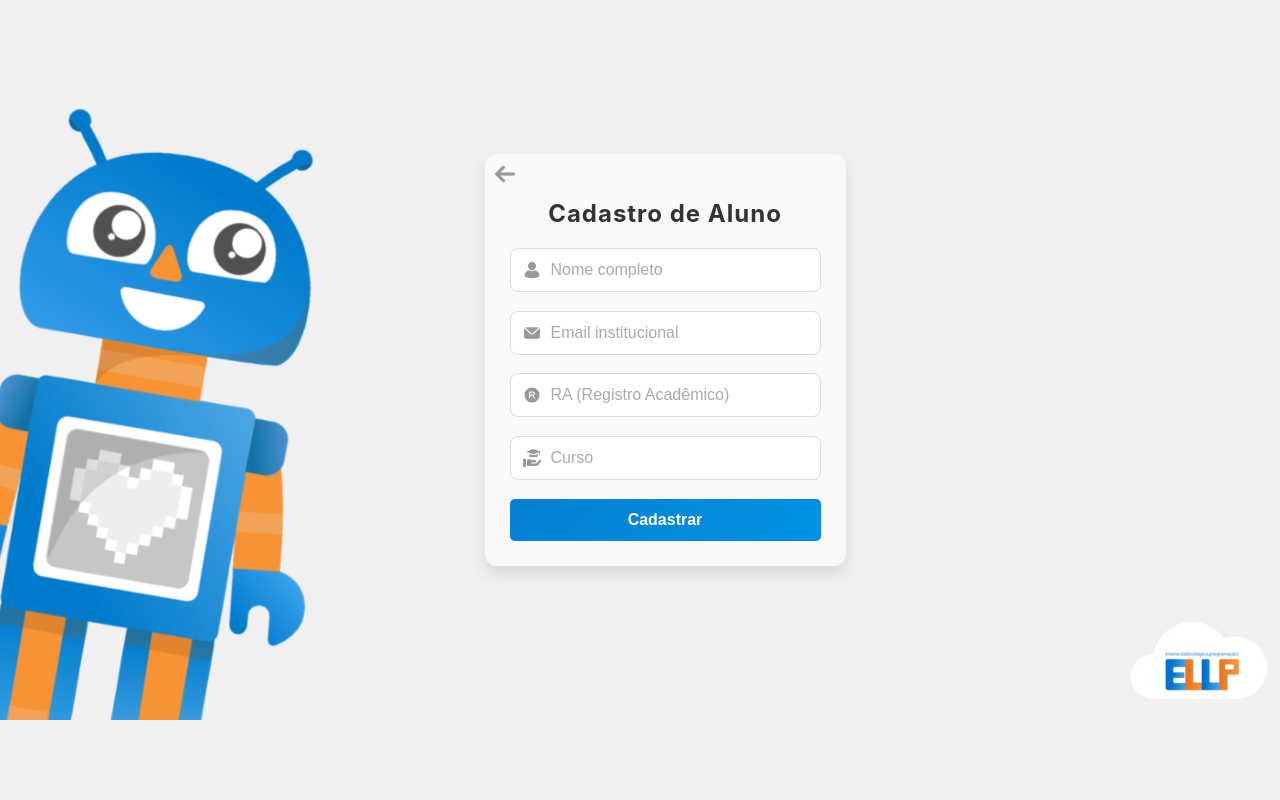
CadastroAluno › Deve exibir mensagem de erro se o cadastro falhar
// Preenche os campos do formulário com dados válidos para o cadastro
In the field with placeholder "Nome completo": (680, 270) [551,261,808,279], type "Maria Oliveira"
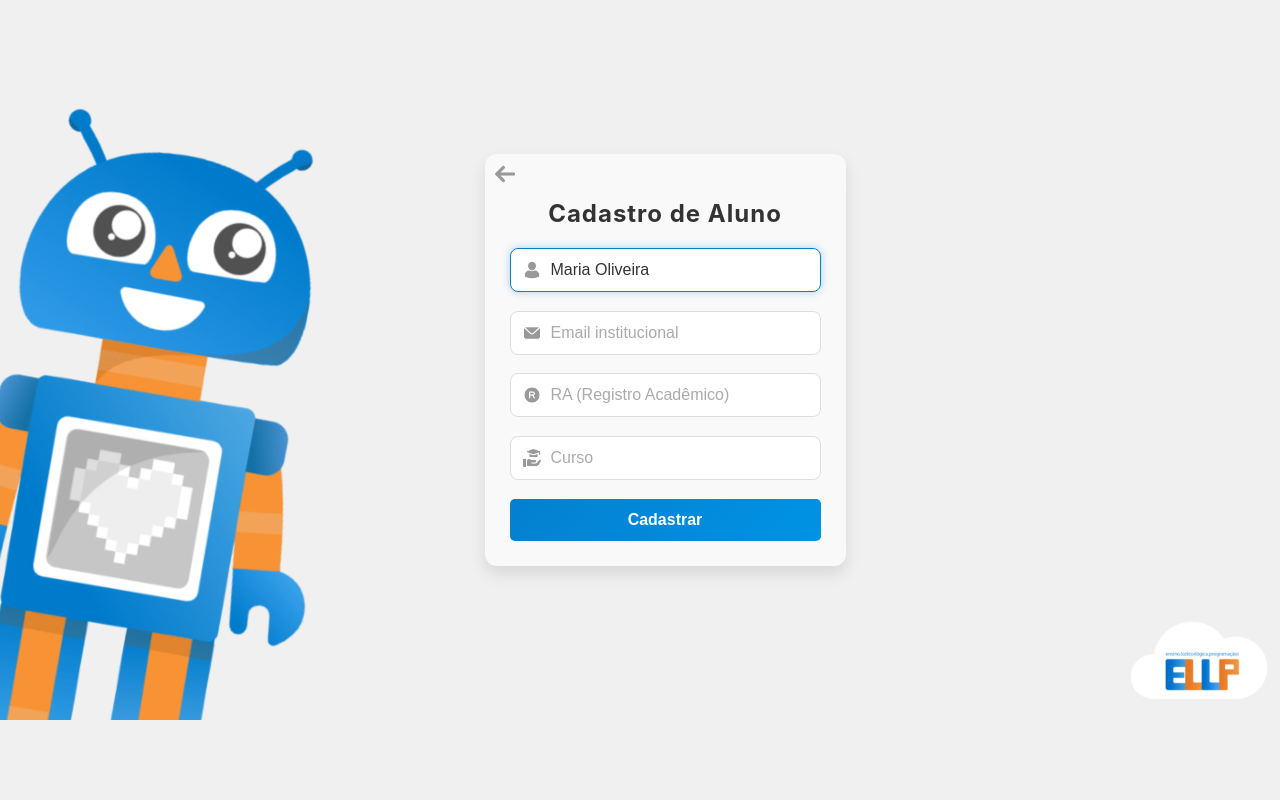
In the field with placeholder "Email institucional": (680, 333) [551,324,808,342], type "maria.oliveira@exemplo.com"
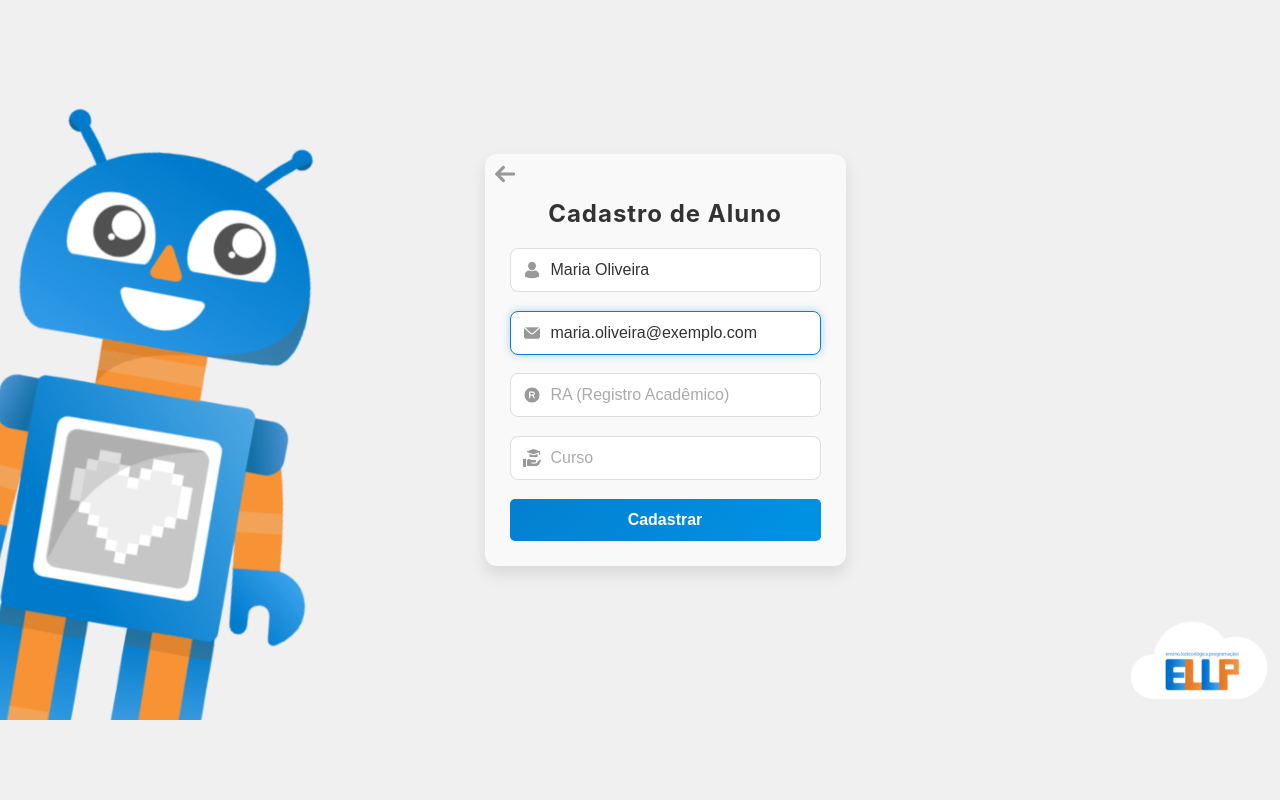
In the field with placeholder "RA (Registro Acadêmico)": (680, 396) [551,387,808,405], type "789012"
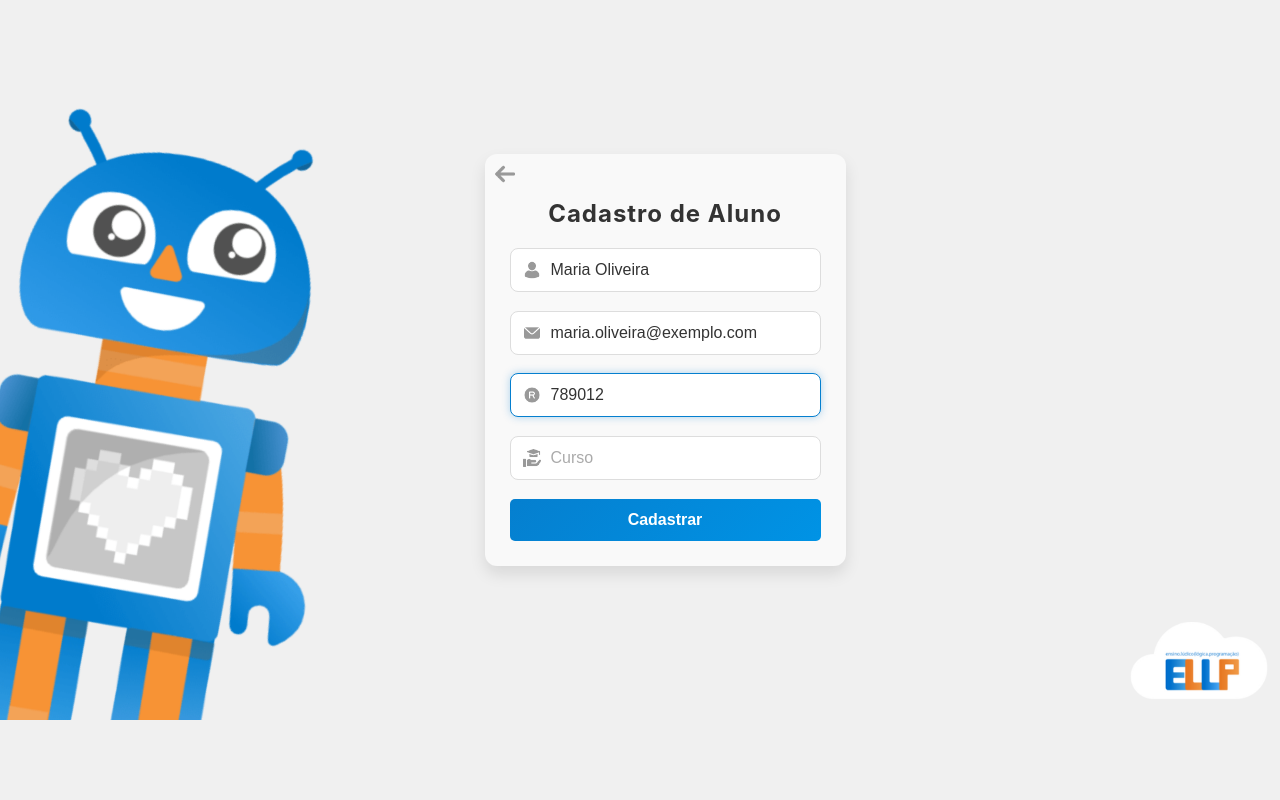
In the field with placeholder "Curso": (680, 458) [551,449,808,467], type "Engenharia de Software"
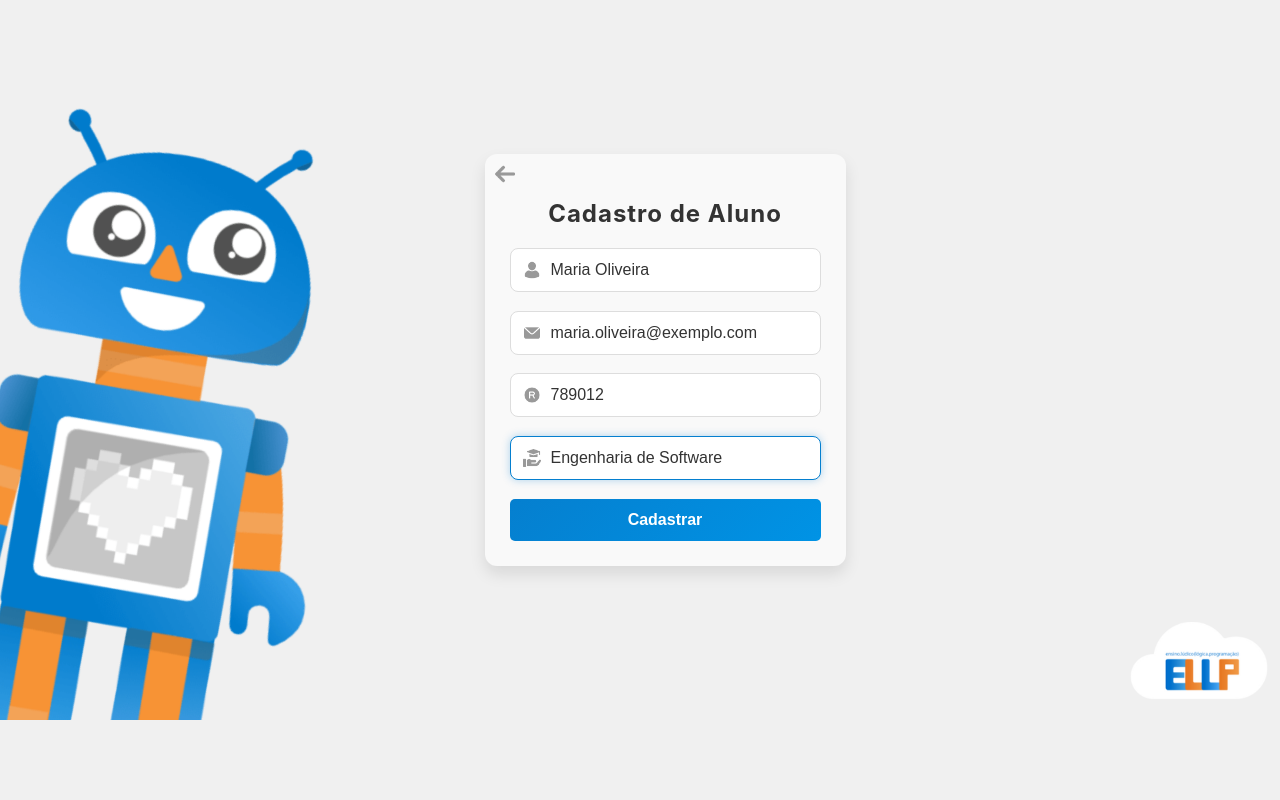
// Clica no botão de cadastro
Click the button with class "cadastro-button": click(666, 520) [510,499,821,541]
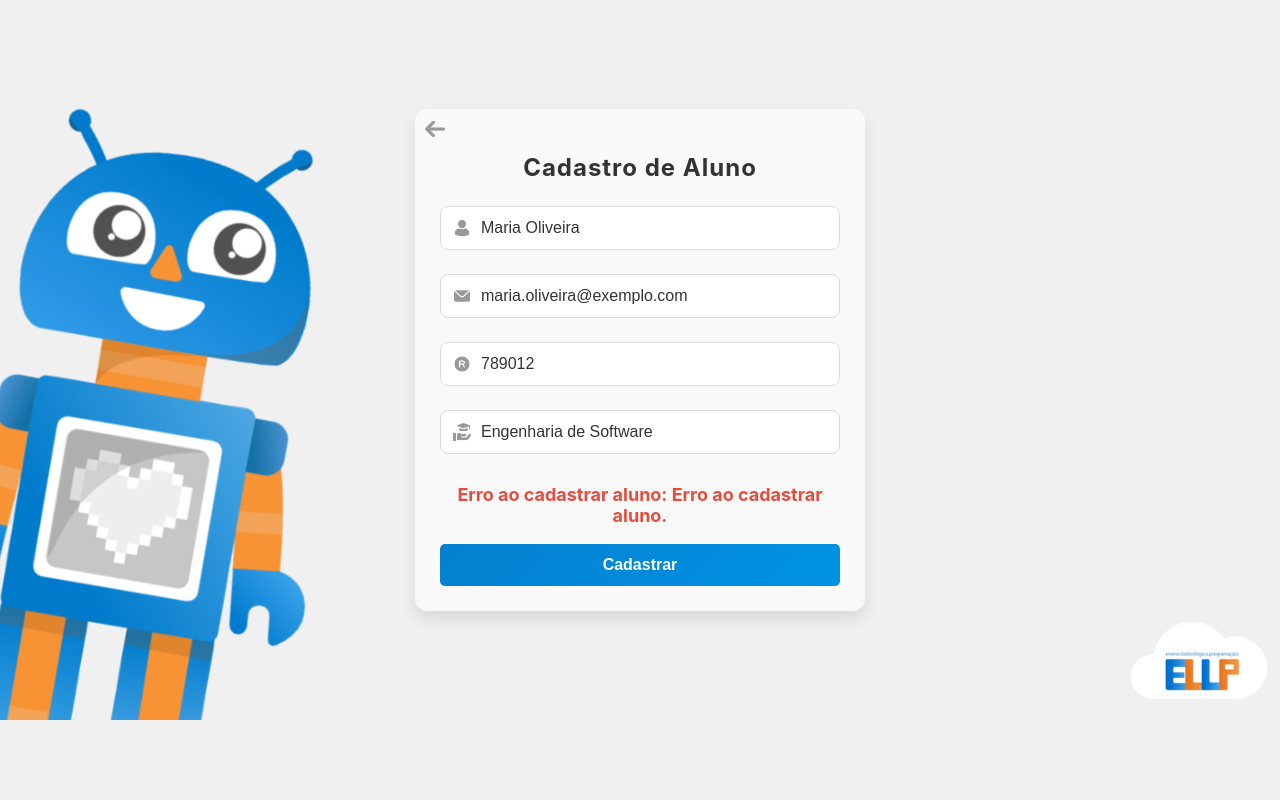
Expected: the text with class "error-message" shows "Erro ao cadastrar aluno.", [457,484,822,526]
